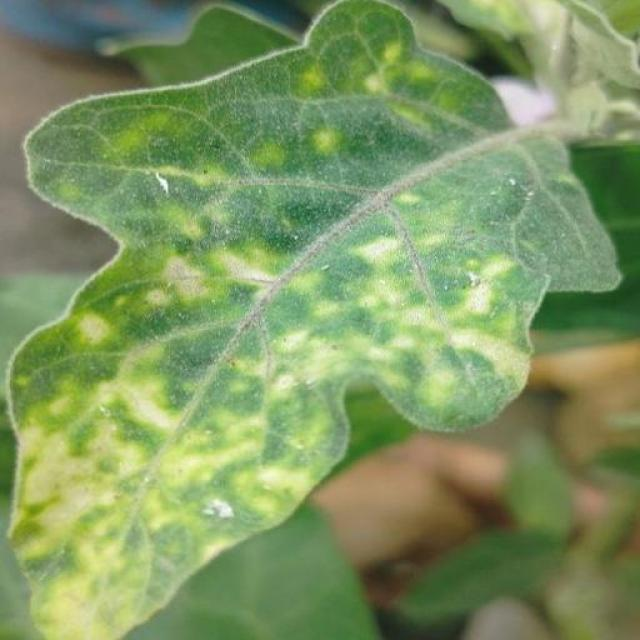leaf_spot: (2, 503, 230, 640), (107, 286, 242, 472), (118, 190, 280, 334), (64, 377, 194, 528), (322, 266, 439, 380), (85, 121, 234, 209), (428, 297, 528, 413), (4, 368, 77, 525), (221, 429, 315, 520), (255, 308, 344, 383), (339, 225, 424, 298), (277, 240, 340, 332), (374, 80, 459, 142), (392, 174, 470, 232), (455, 252, 522, 317), (274, 369, 340, 432), (422, 363, 471, 437), (242, 126, 303, 176), (77, 312, 134, 354), (306, 115, 352, 160), (397, 56, 444, 90), (292, 58, 334, 90), (377, 36, 408, 67), (363, 67, 385, 99)
